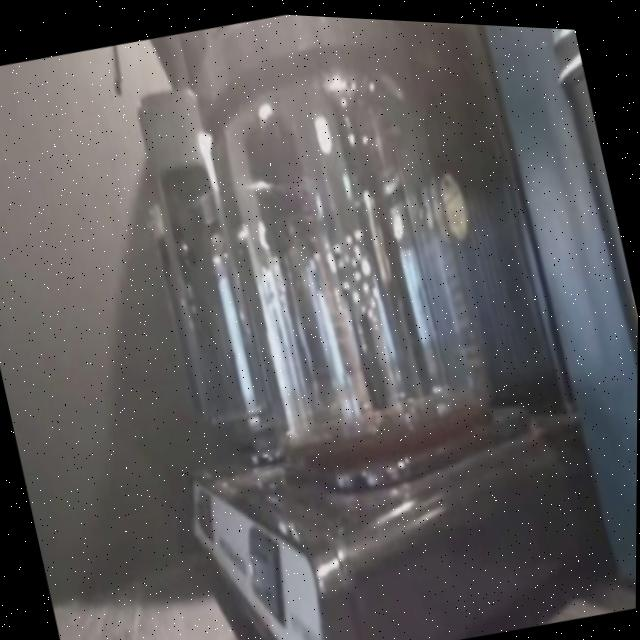nocoffee: (208, 82, 512, 466), (191, 244, 277, 449)
